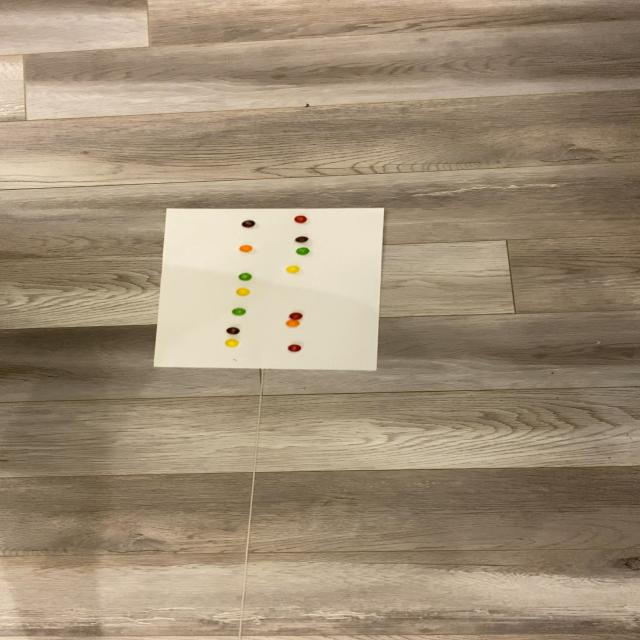smartie: (231, 308, 246, 317), (235, 288, 250, 297), (227, 327, 241, 336), (289, 312, 303, 321), (238, 272, 252, 281), (286, 265, 300, 274), (296, 248, 311, 256), (241, 220, 255, 228), (294, 236, 308, 244), (239, 245, 253, 253), (294, 216, 308, 224), (289, 344, 303, 352), (225, 340, 239, 348), (286, 320, 300, 327)
